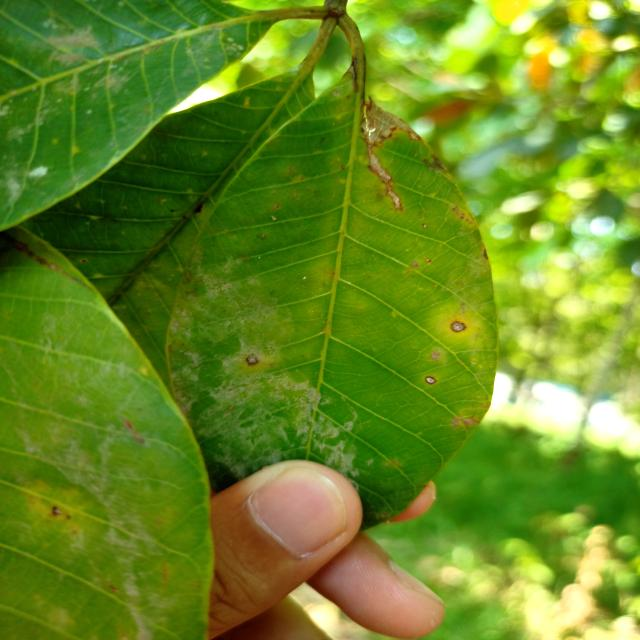Colletotrichum: (451, 321, 466, 332), (246, 354, 258, 366), (425, 376, 436, 385)
Leaf-Blight: (360, 96, 421, 146)
